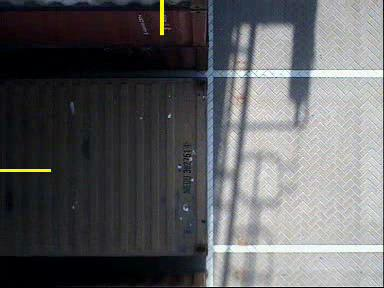groundmarker_2: (103, 81, 160, 117), (103, 254, 158, 288)
